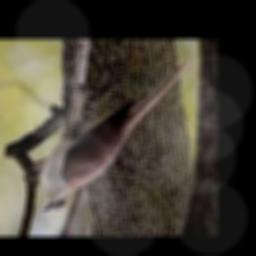Cuckoo: (43, 54, 194, 213)
